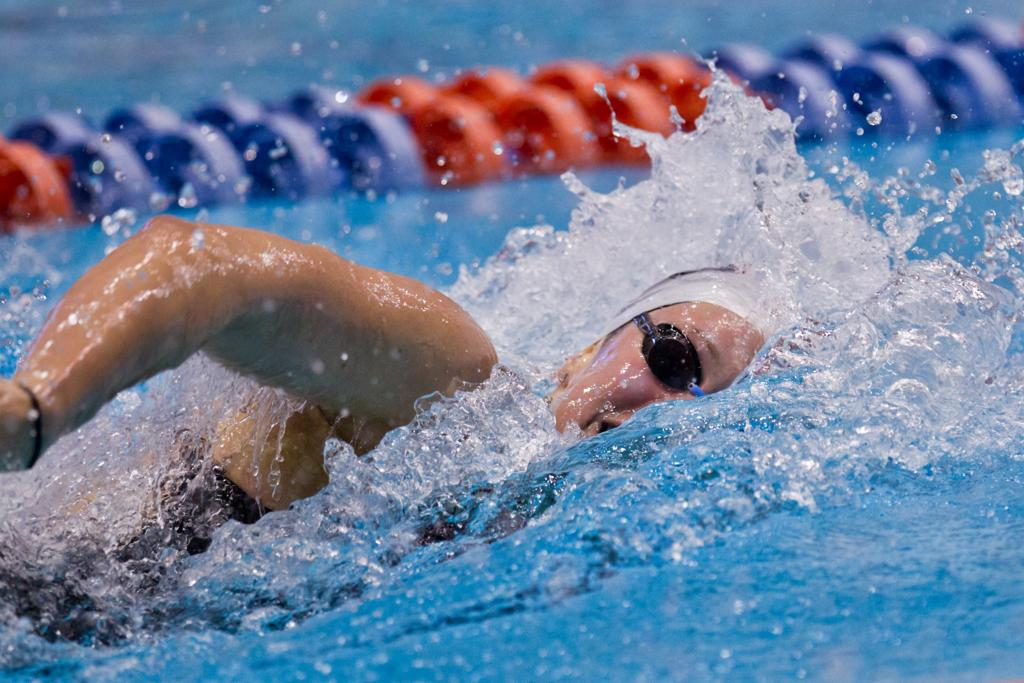face: (552, 320, 784, 466)
